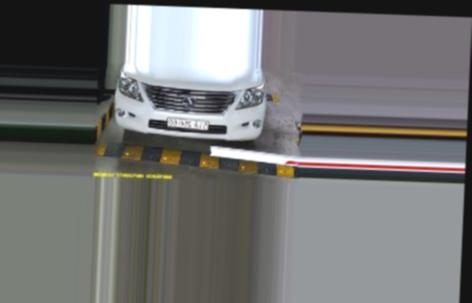License_Plate: (164, 114, 211, 133)
